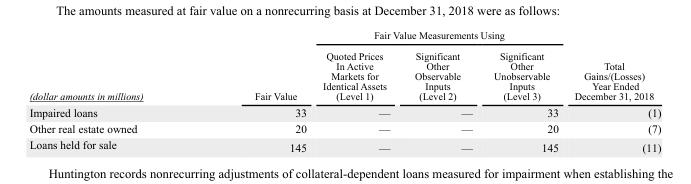table: (28, 29, 660, 153)
table column: (28, 29, 198, 153), (198, 29, 314, 153), (565, 29, 660, 153), (314, 29, 401, 153), (482, 29, 565, 153), (401, 29, 482, 153)
table column header: (28, 29, 660, 103)
table row: (28, 45, 660, 103), (28, 119, 660, 136), (28, 136, 660, 153), (28, 29, 660, 45), (28, 103, 660, 119)
table spanning cell: (28, 29, 198, 103), (198, 29, 314, 103), (565, 29, 660, 103), (314, 29, 565, 45)
